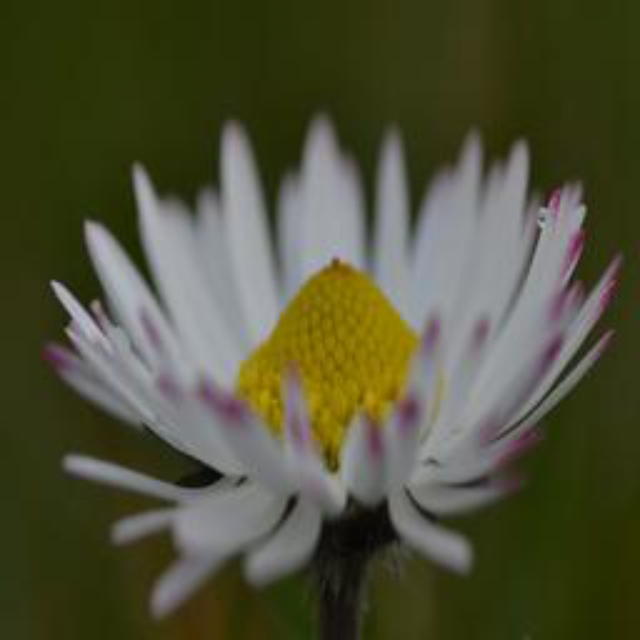daisy: (38, 106, 628, 623)
